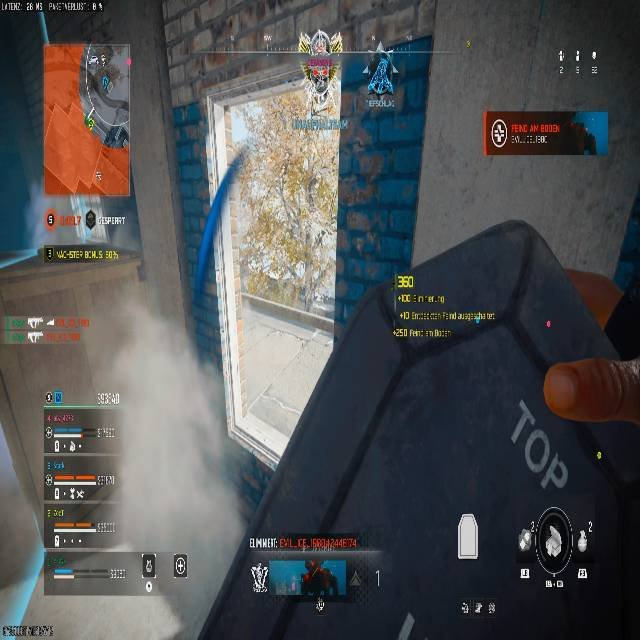player: (302, 559, 337, 612)
